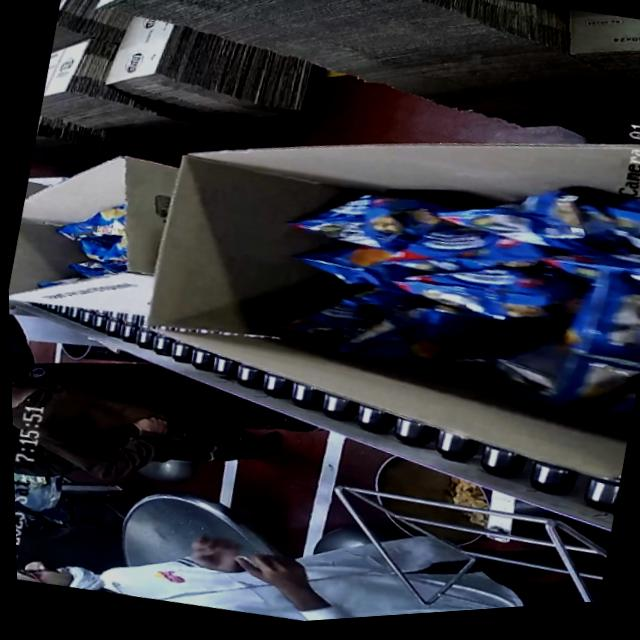PAPRIKA: (241, 127, 640, 429)
